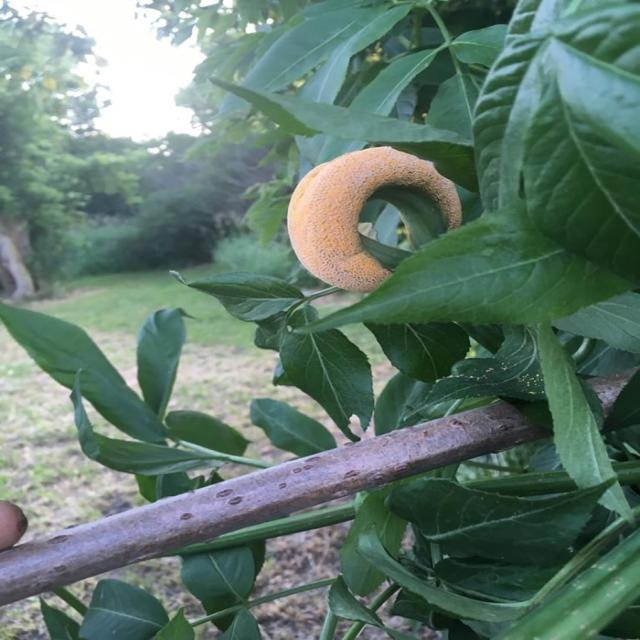Elderberry_rust: (247, 128, 491, 304)
